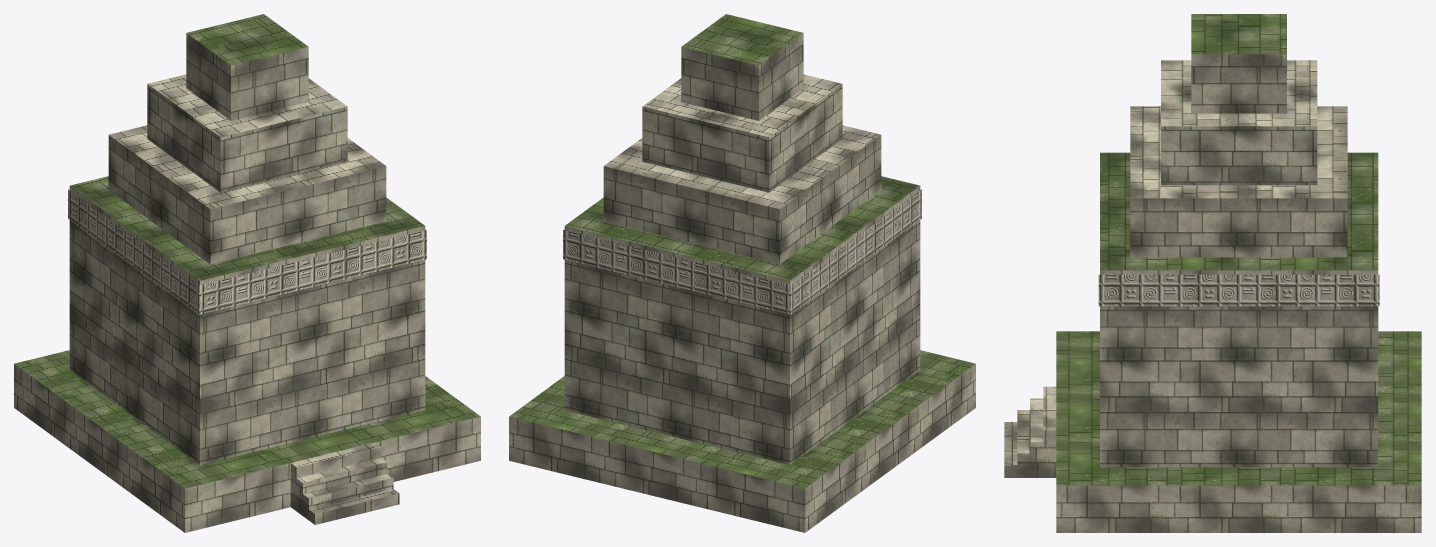
The model's file is ruin-shrine.ruins-v1.lod1.glb.
3 views of the same model, side by side, from view 1: azimuth 30°, elevation 25°; view 2: azimuth 150°, elevation 25°; view 3: azimuth 270°, elevation 25° (orthographic). The views are drawn at different scales.
Parts seen in each view (by area): view 1: ruin-shrine; view 2: ruin-shrine; view 3: ruin-shrine.
Part boxes in pixels (box(x1,y1,x2,y2)): ruin-shrine: box(14, 14, 480, 532); ruin-shrine: box(509, 14, 975, 532); ruin-shrine: box(1004, 14, 1421, 532).
Size of the model in its own units: 8.4 by 10.7 by 9.6.
3 materials, 3 textured.
